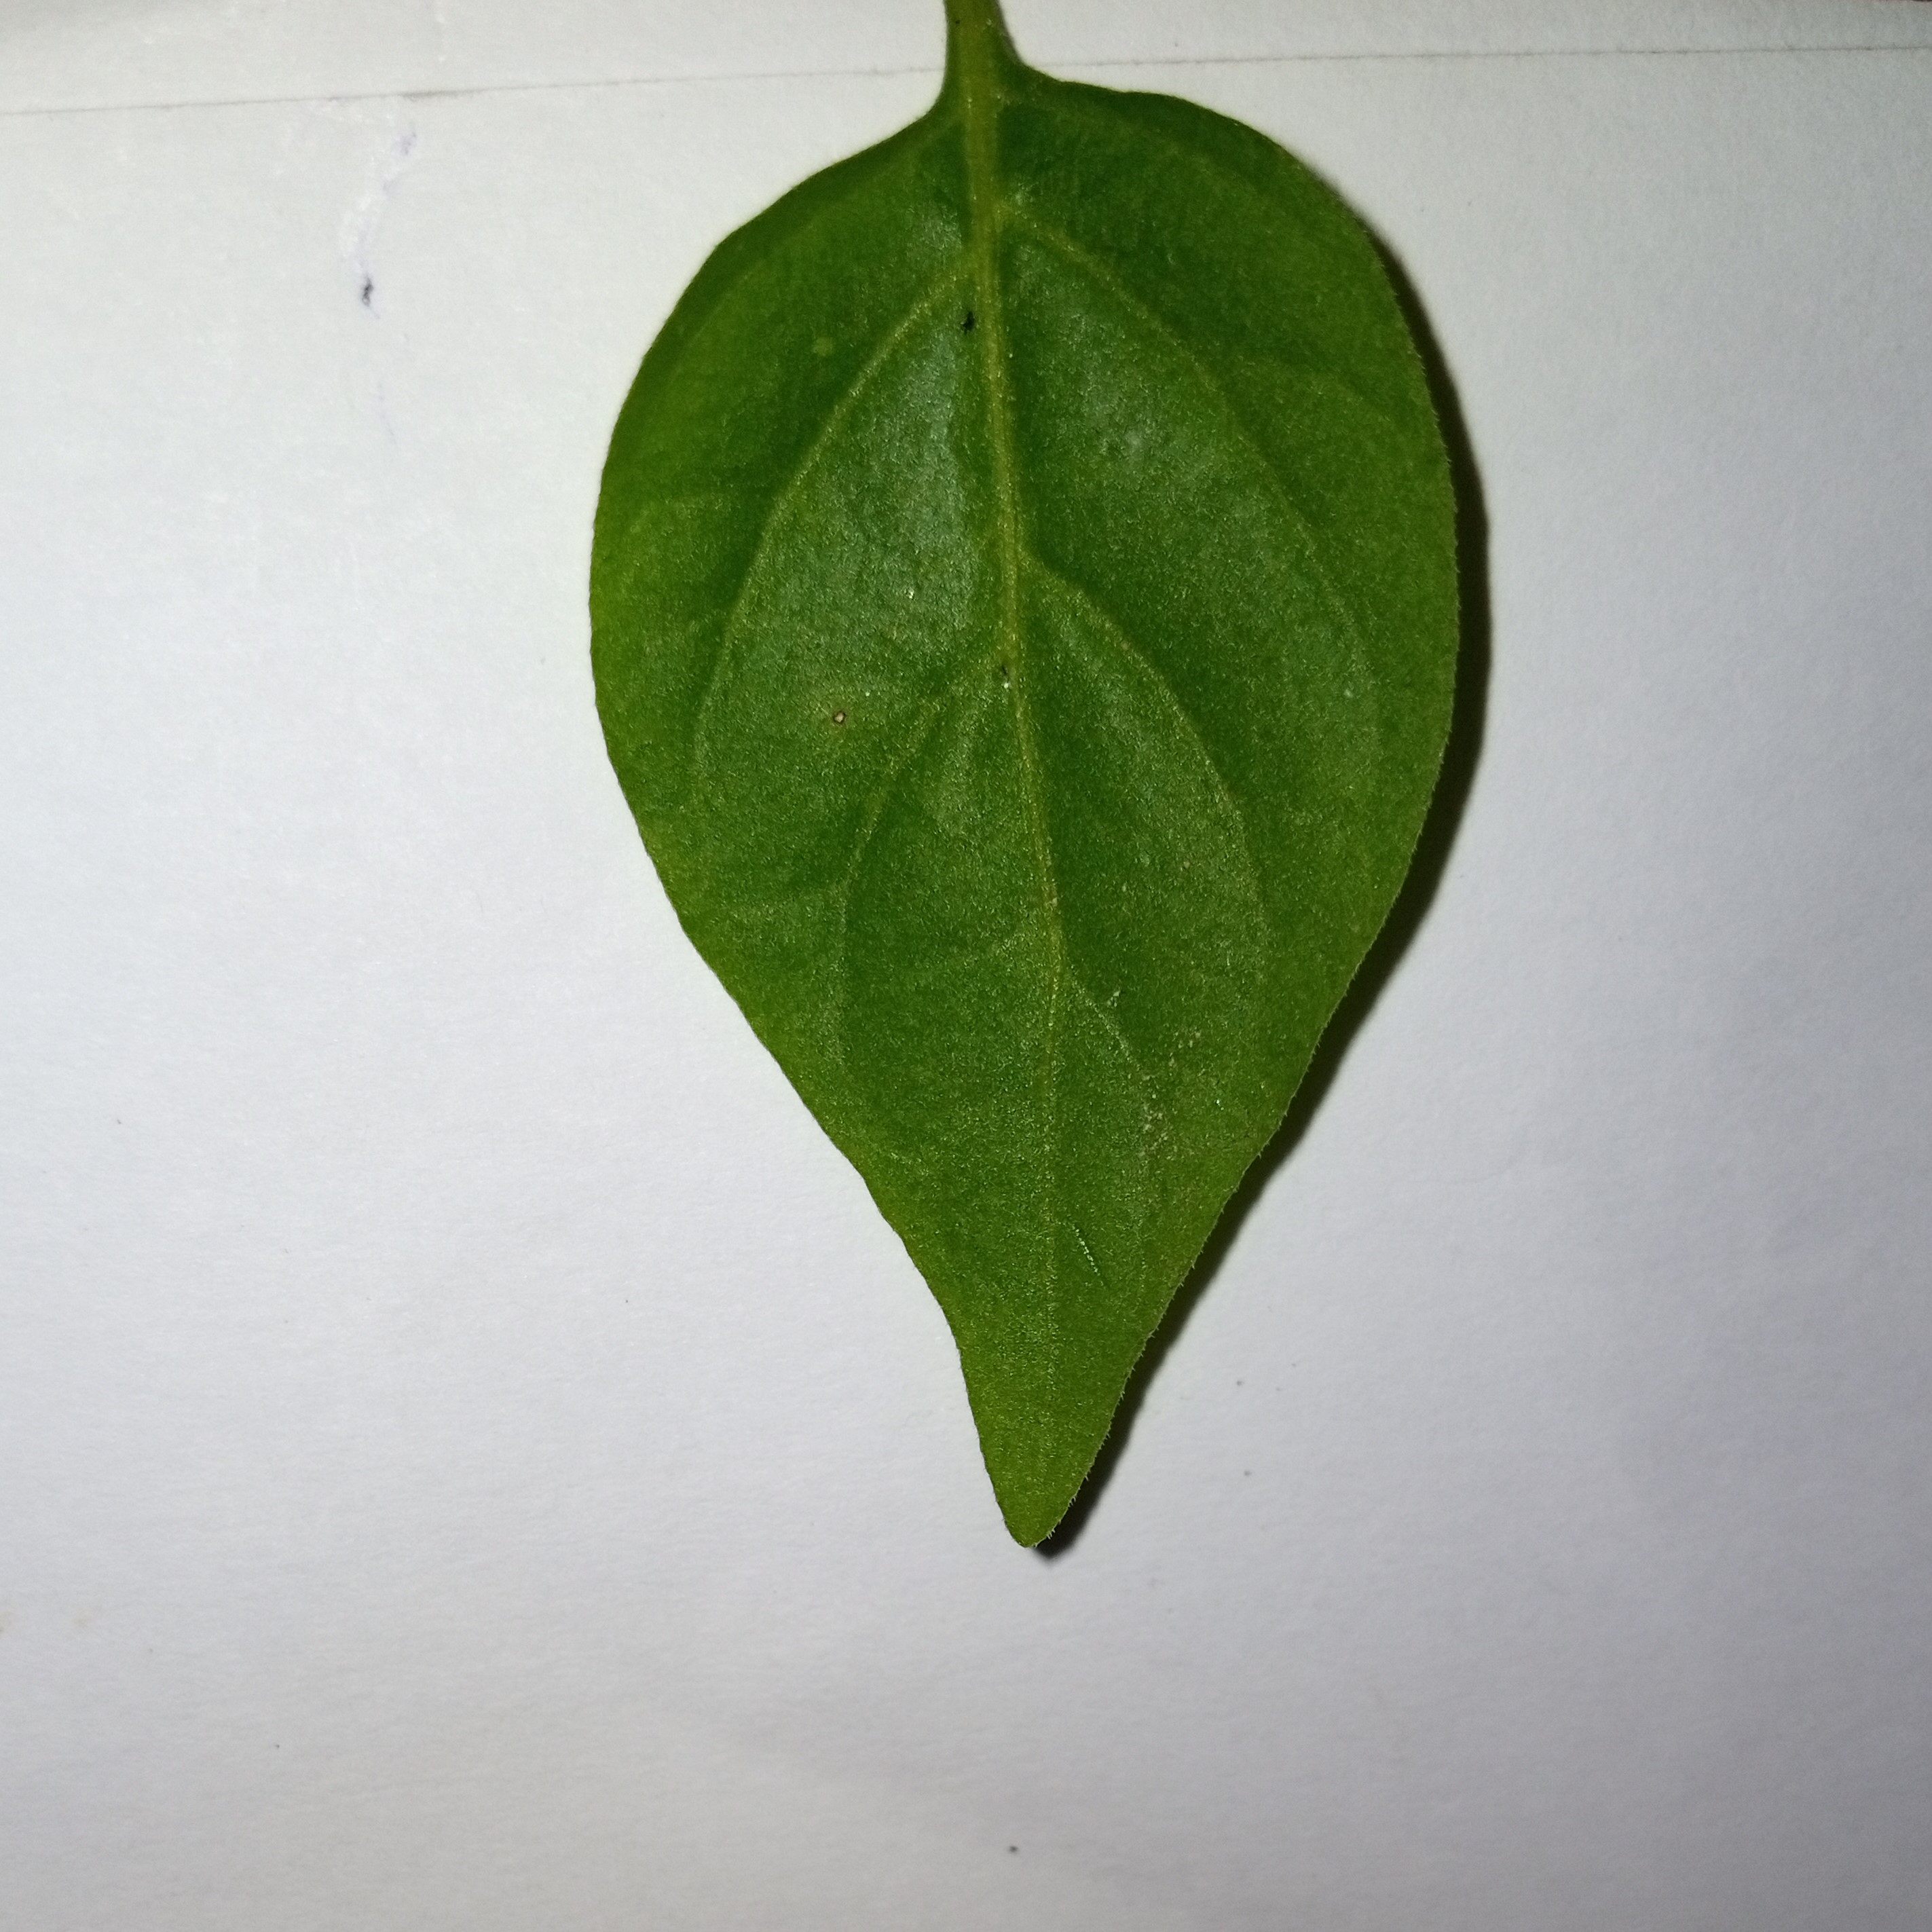Leaf: (455, 30, 1523, 1642)
